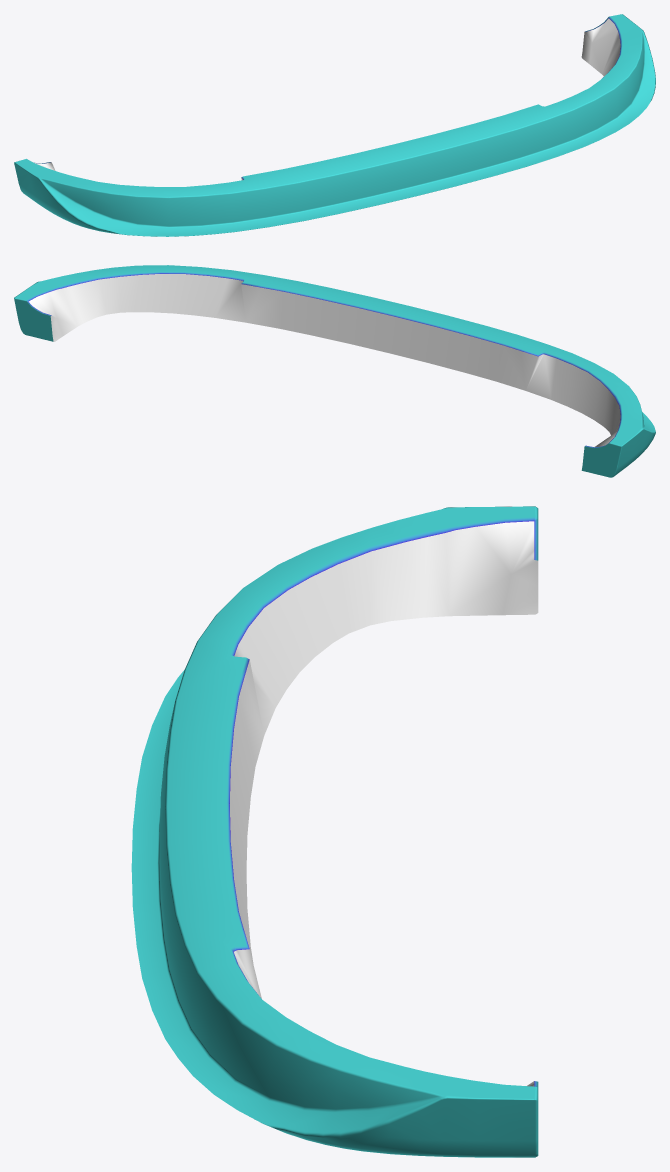
File: Car_Mini_CountrymanJCW_2017_Splitter_SetD_AltA.fbx
The picture shows the model from 3 angles, top to bottom: view 1: azimuth 30°, elevation 25°; view 2: azimuth 150°, elevation 25°; view 3: azimuth 270°, elevation 25°; orthographic projection. The views are drawn at different scales.
Parts seen in each view (by area): view 1: Splitter 6; view 2: Splitter 6; view 3: Splitter 6.
Boxes of the visible parts, x1,y1,x2,y2 form: Splitter 6: (14,14,655,236); Splitter 6: (14,265,655,477); Splitter 6: (131,506,538,1157).
Bounding box in the file's own units: 1.74 × 0.0963 × 0.5038.
